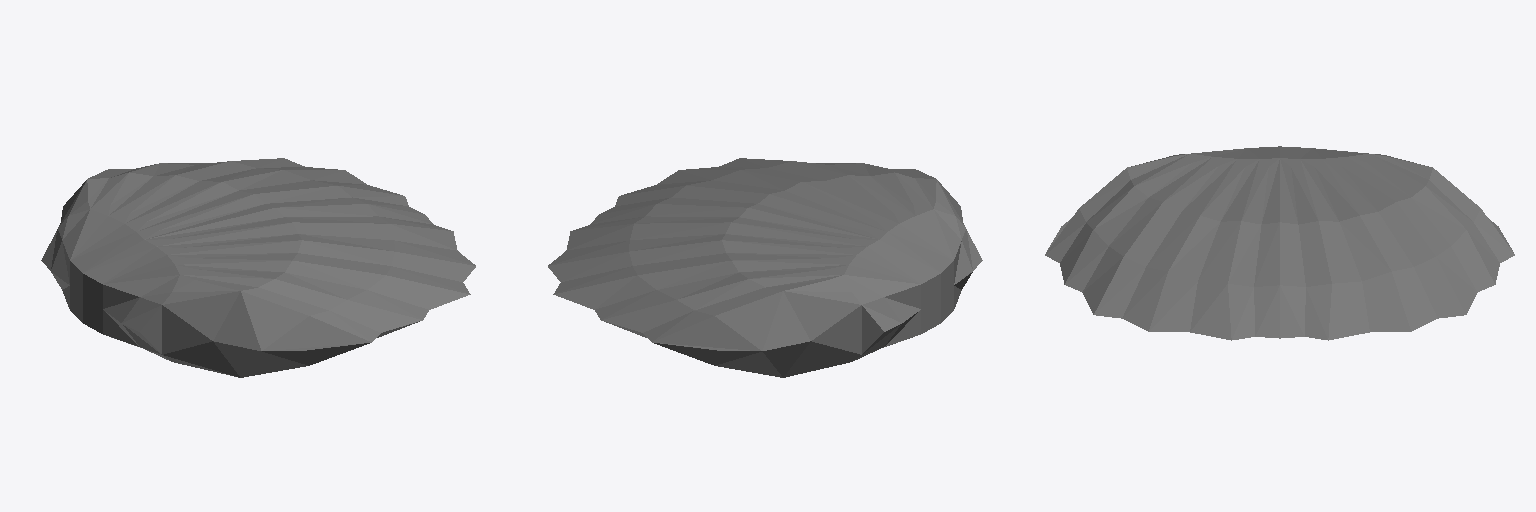
Rendered from shell.obj.
3 views of the same model, side by side, from view 1: azimuth 30°, elevation 25°; view 2: azimuth 150°, elevation 25°; view 3: azimuth 270°, elevation 25° (orthographic).
Parts seen in each view (by area): view 1: Box001; view 2: Box001; view 3: Box001.
Part boxes in pixels (bbox=[...]): Box001: bbox=[41, 158, 475, 377]; Box001: bbox=[548, 158, 982, 377]; Box001: bbox=[1045, 146, 1514, 340].
Size of the model in its own units: 7.67 by 1.84 by 9.03.